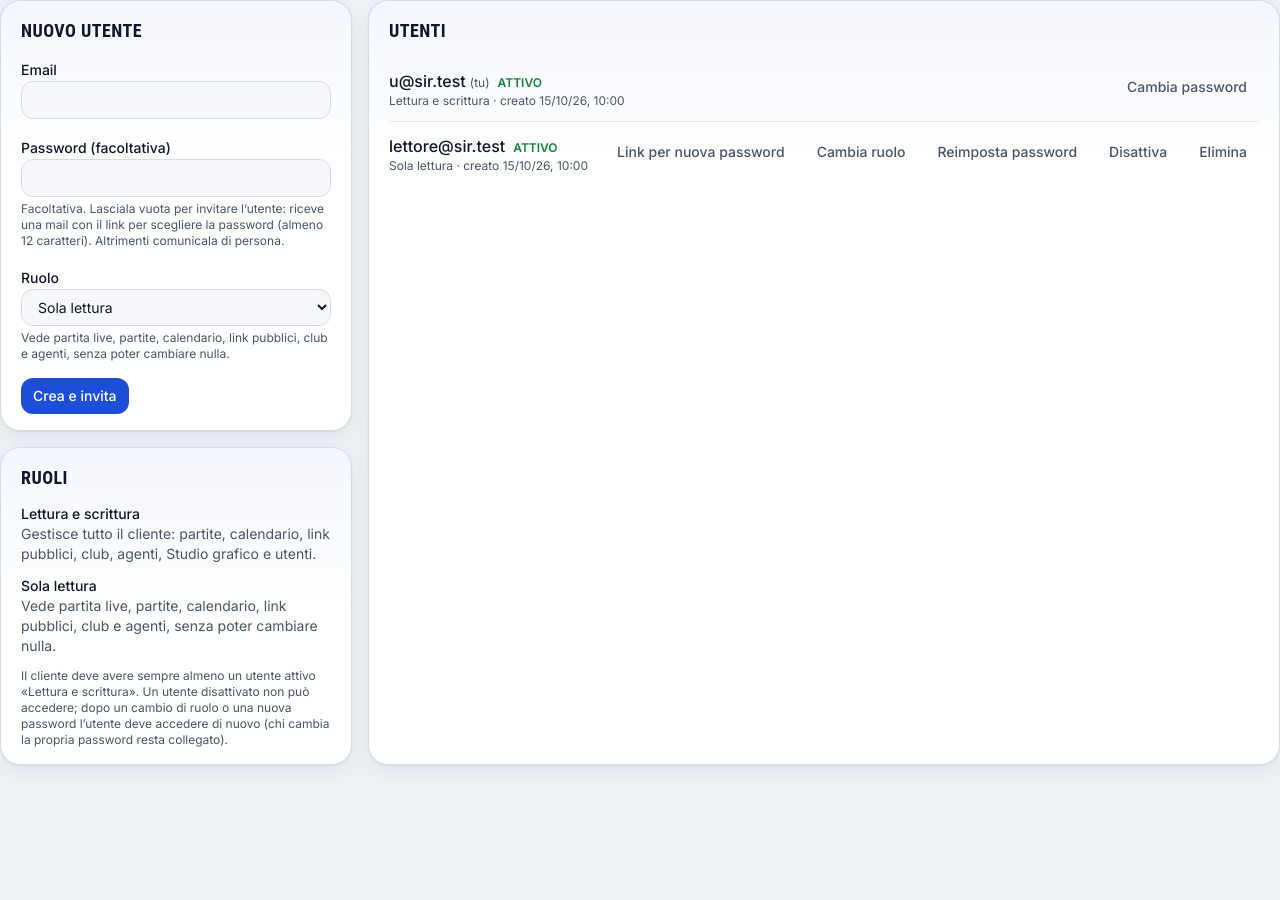
«Utenti» page › disables and deletes a user only after the confirmation
Click the button "Disattiva". click: [1138, 152]
box: [1097, 134, 1179, 170]
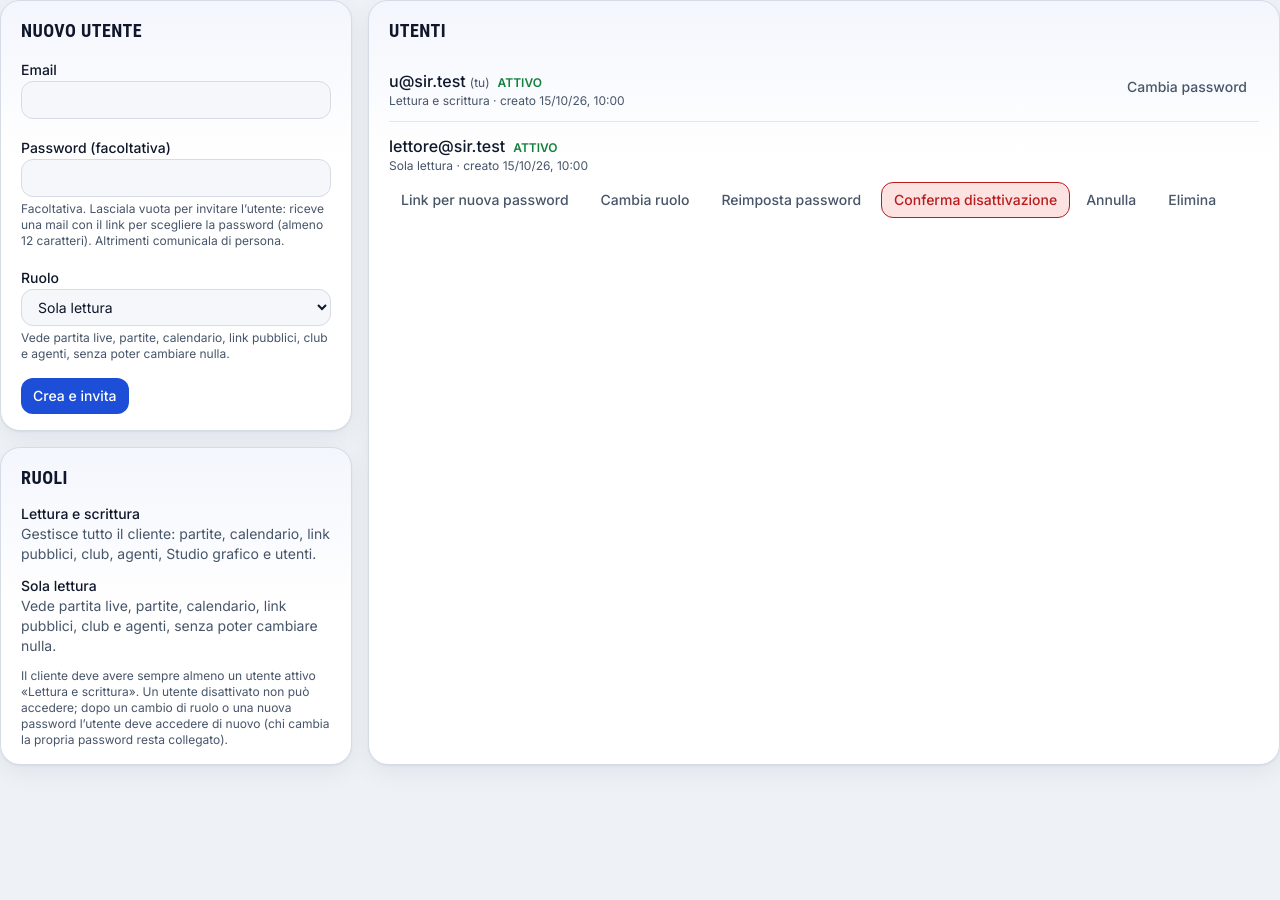
Click the button "Conferma disattivazione". click: [976, 200]
box: [881, 182, 1070, 218]
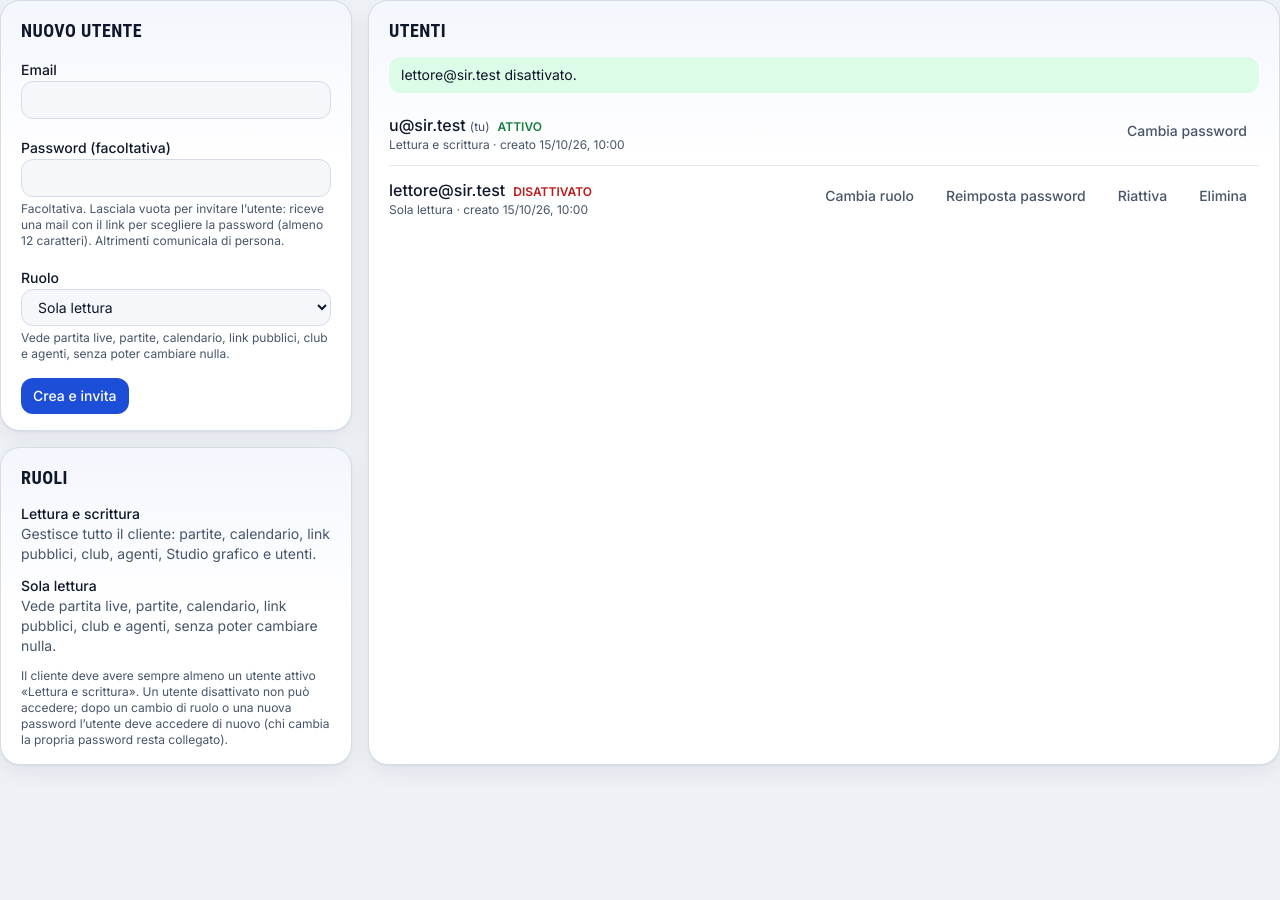
Now the text "lettore@sir.test disattivato." is shown, box [389, 57, 1259, 93]
Now the button "Riattiva" is shown, box [1106, 178, 1179, 214]
Click the button "Elimina". click: [1223, 196]
box: [1187, 178, 1259, 214]
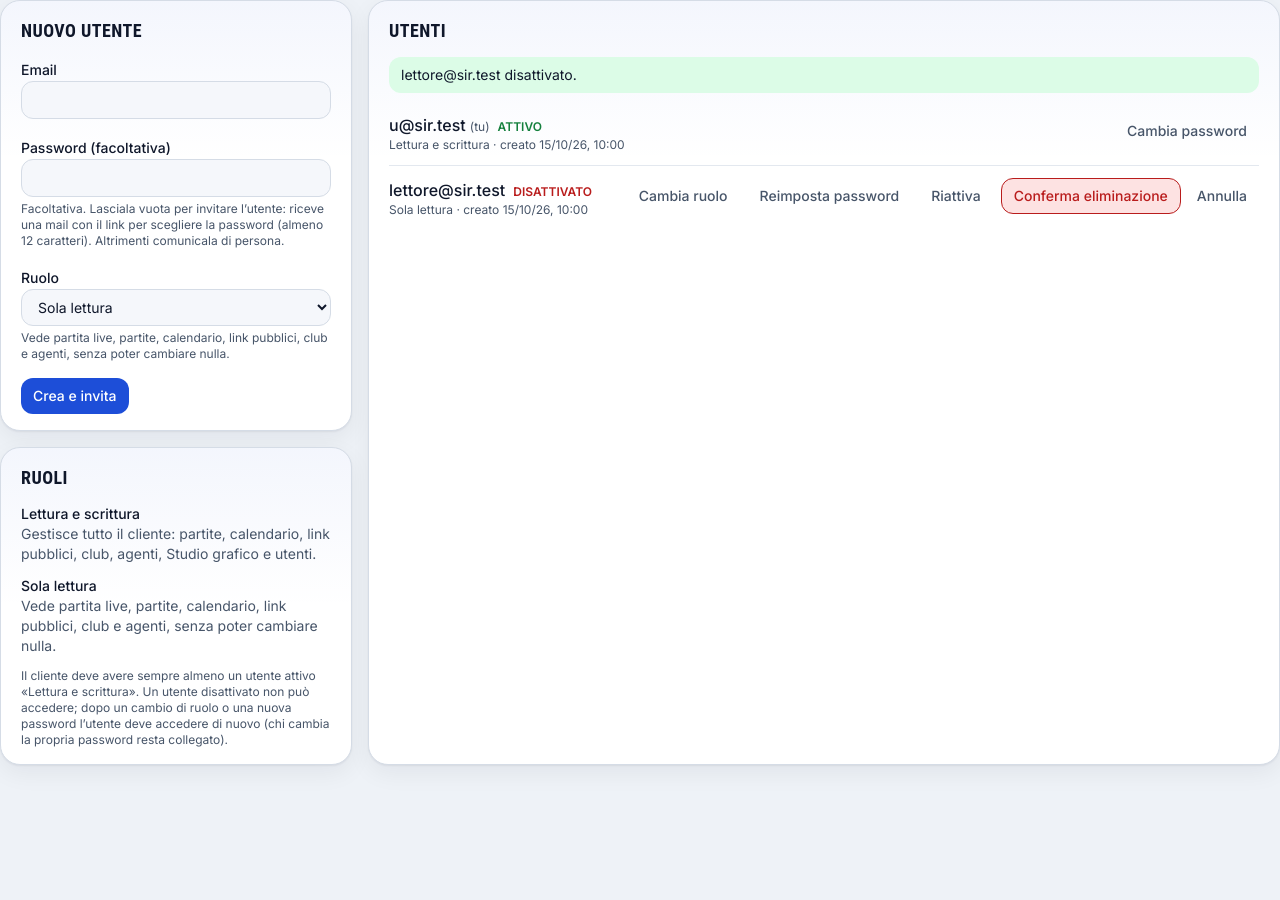
Click the button "Conferma eliminazione". click: [1091, 196]
box: [1001, 178, 1181, 214]
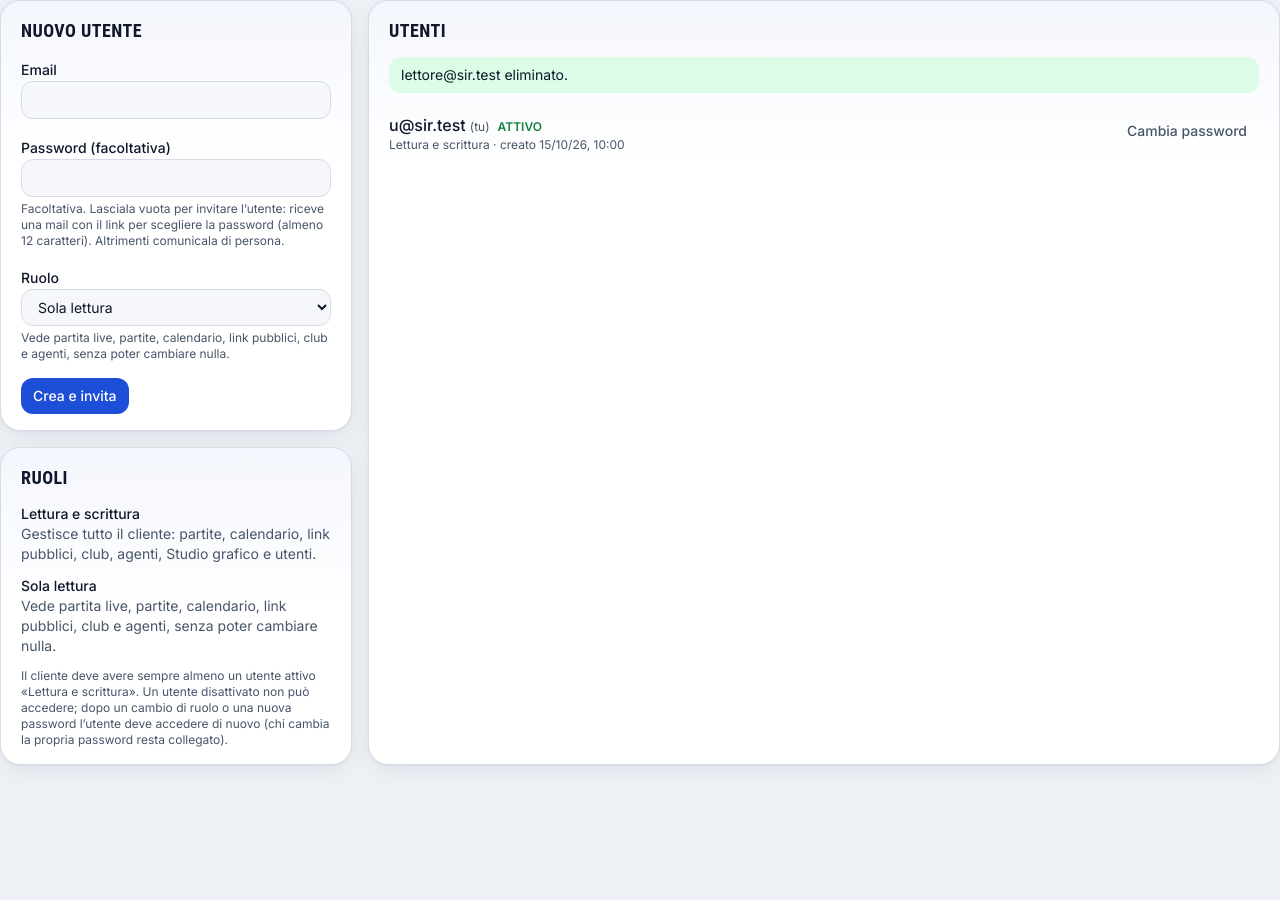
Now the text "lettore@sir.test eliminato." is shown, box [389, 57, 1259, 93]
